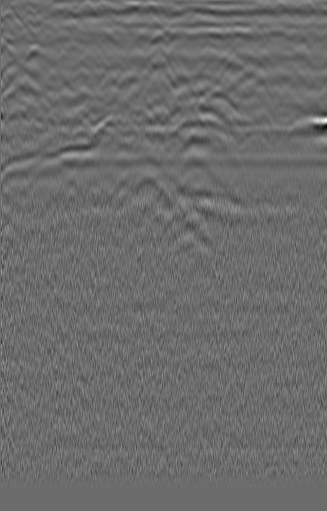가스: (233, 195, 253, 215)
상수: (240, 126, 260, 146)
우수: (25, 44, 45, 64)
